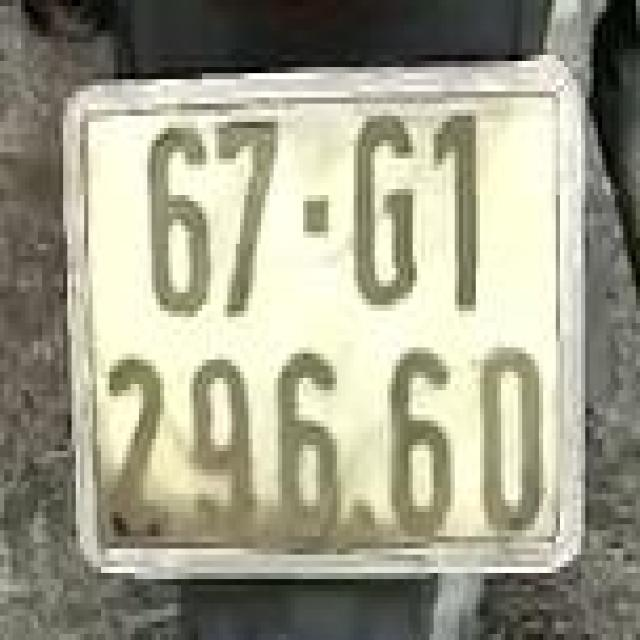0: (467, 335, 556, 549)
1: (432, 92, 499, 329)
2: (97, 329, 177, 543)
6: (257, 338, 345, 546), (132, 119, 212, 332), (375, 332, 459, 534)
7: (212, 107, 296, 332)
9: (183, 348, 259, 536)
G: (346, 97, 426, 317)
